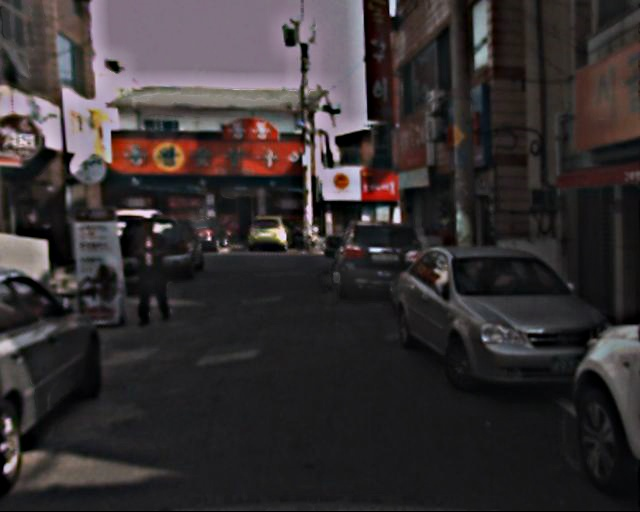person: (126, 216, 178, 328)
